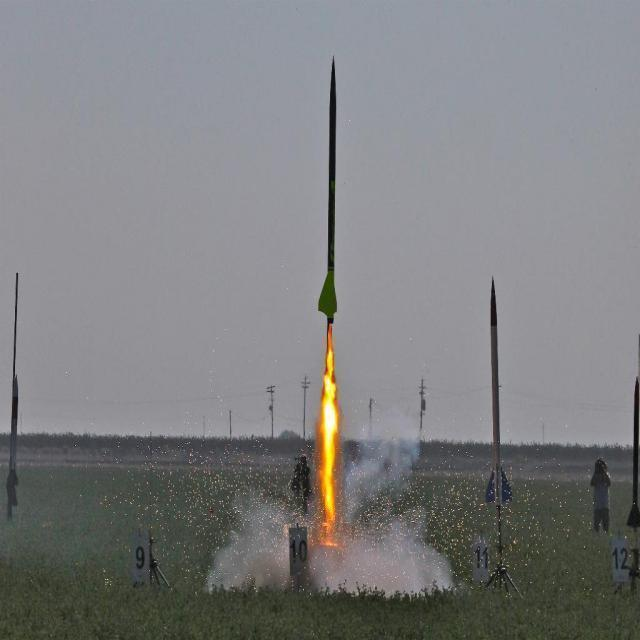missile: (480, 273, 517, 495), (313, 53, 342, 321), (628, 373, 640, 528)
